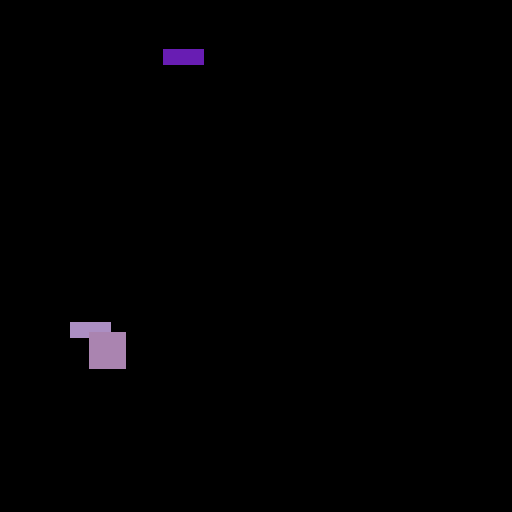side_rect: (65, 319, 115, 341), (161, 47, 206, 67)
square: (88, 330, 126, 372)
